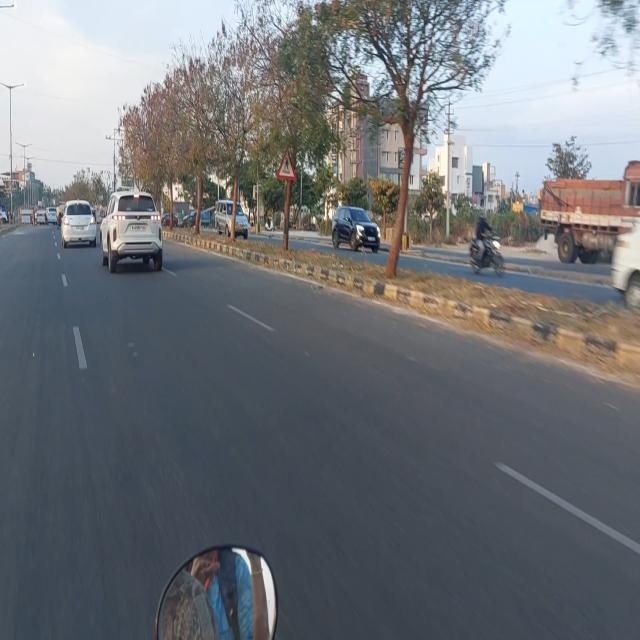bien_nguy_hiem: (276, 145, 296, 181)
